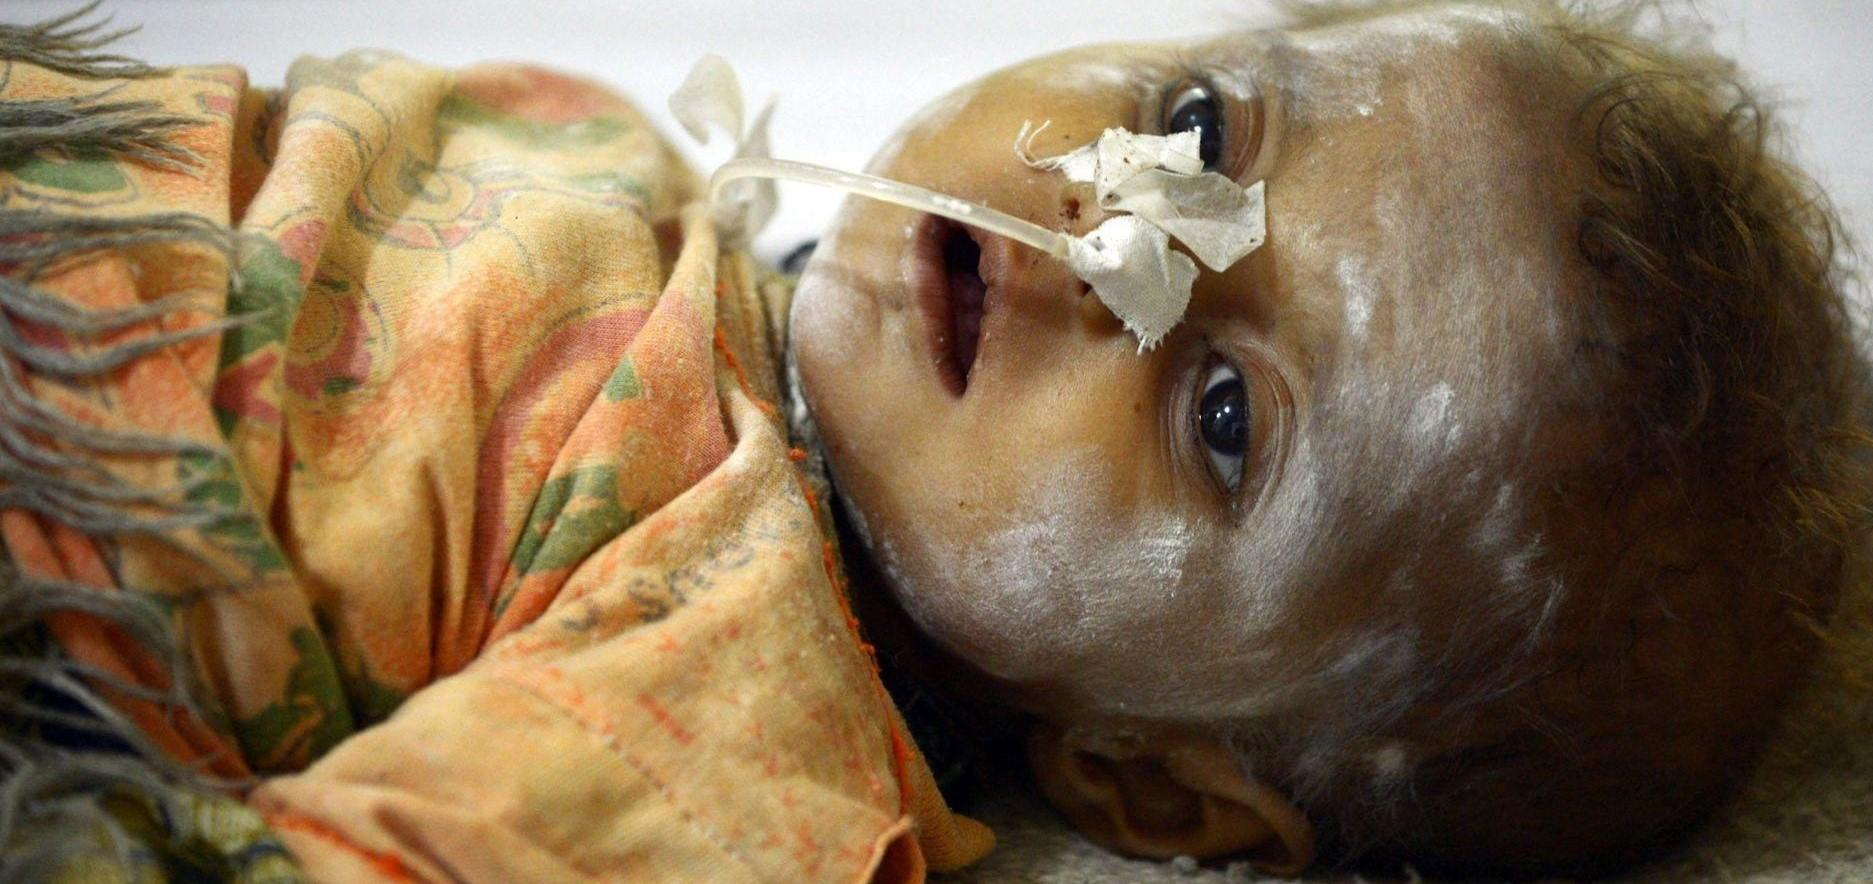Stunting: (785, 0, 1873, 884)
